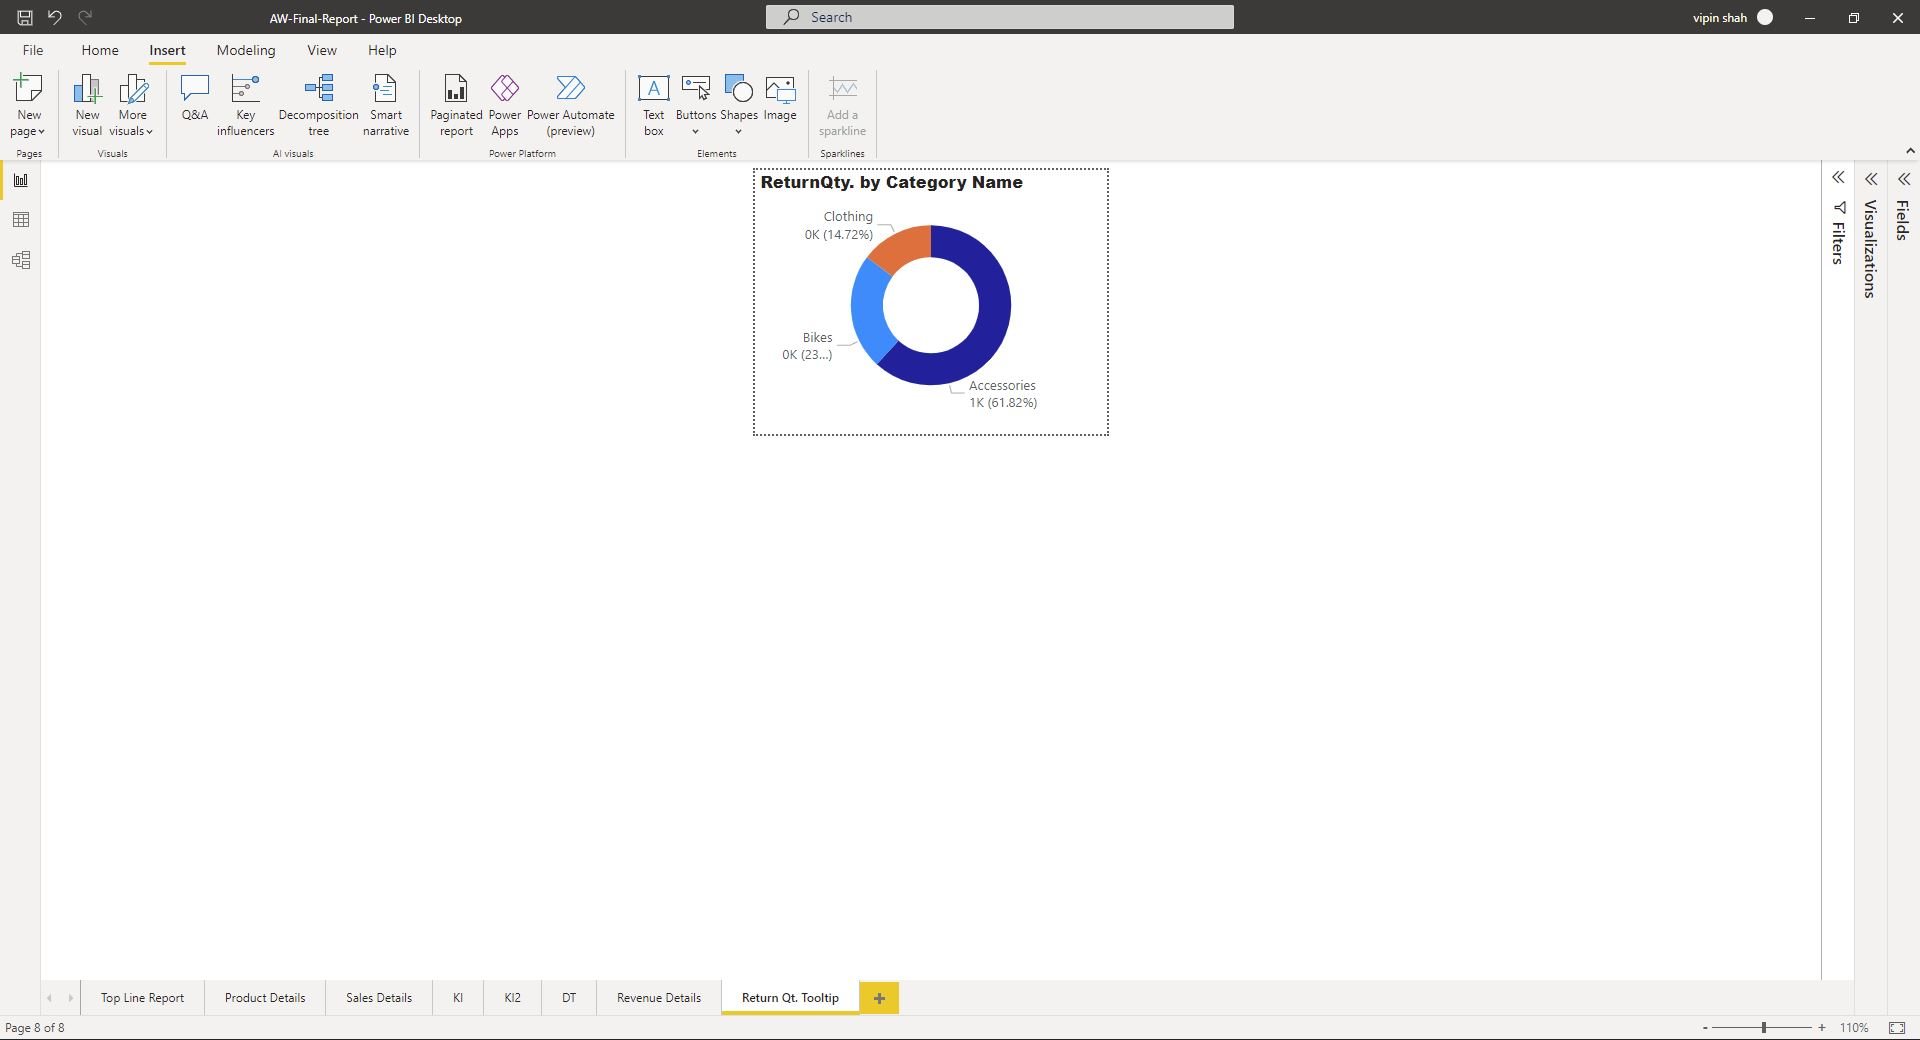

The dashboard page shown, as its layout file describes it:
{"tool":"powerbi","page":{"name":"Return Qt. Tooltip","canvas":[320,240],"ordinal":7},"visuals":[{"type":"donutChart","title":"ReturnQty. by Category Name","fields":{"Category":["d-Product-Categories.Category Name"],"Y":["Sum(f-Returns.ReturnQuantity)"]},"box":[0,0,320,225.5],"z":0}]}

Visuals, with their boxes on the page's 320x240 design canvas (x1, y1, x2, y2). These are canvas units, not pixel positions in the 1920x1040 screenshot, which may show the page scaled, cropped or inside an application window:
"ReturnQty. by Category Name" donutChart: bbox=(0, 0, 320, 226)
